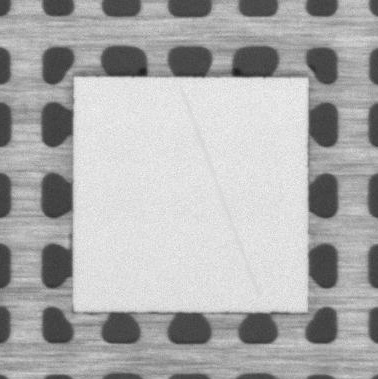DIE_CRACK: (181, 87, 258, 296)
